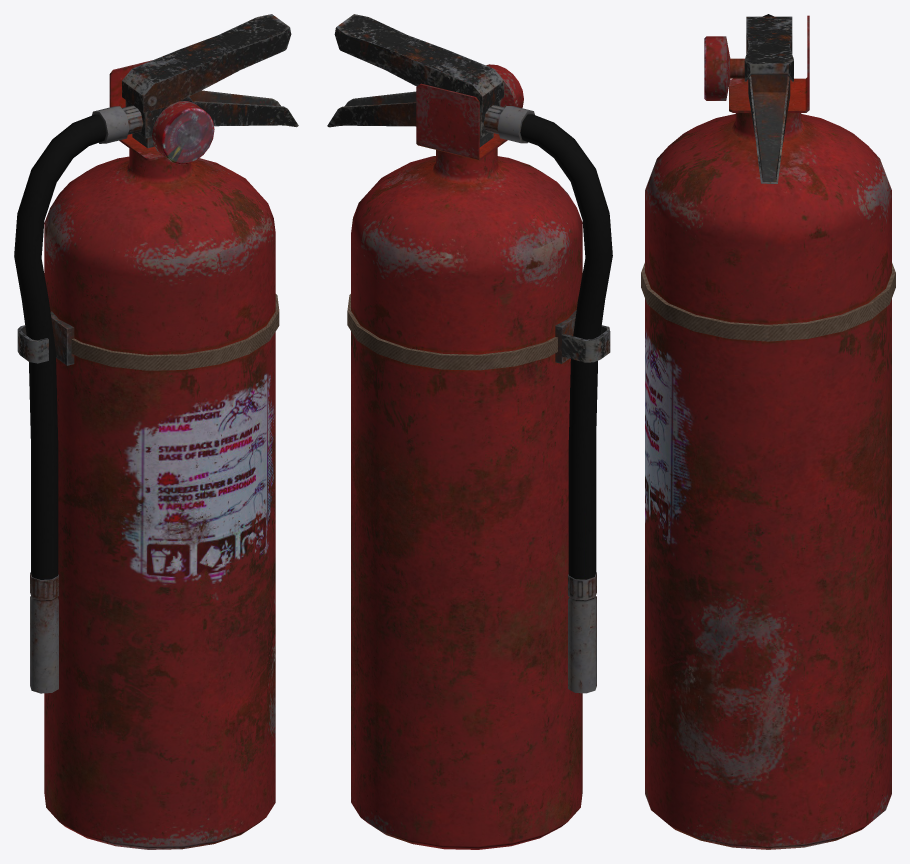
The model's file is extinguisher.gltf.
3 renders of one model, left to right at view 1: azimuth 30°, elevation 25°; view 2: azimuth 150°, elevation 25°; view 3: azimuth 270°, elevation 25°, orthographic. The views are drawn at different scales.
Parts seen in each view (by area): view 1: Object001; view 2: Object001; view 3: Object001.
Part boxes in pixels (bbox=[...]): Object001: bbox=[14, 14, 298, 849]; Object001: bbox=[327, 14, 612, 849]; Object001: bbox=[641, 14, 895, 849].
Bounding box in the file's own units: 0.4621 × 1.19 × 0.3434.
Materials: 1 (1 with a texture image).
